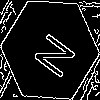N: (25, 25, 78, 81)
